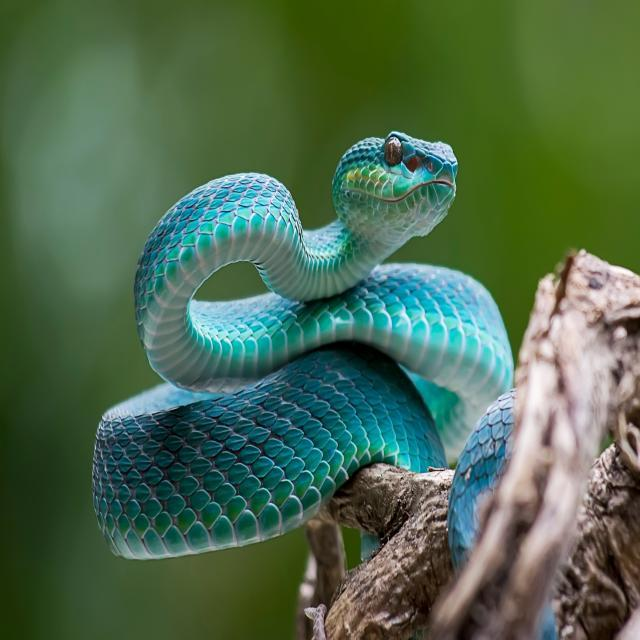Snake: (77, 62, 542, 596)
